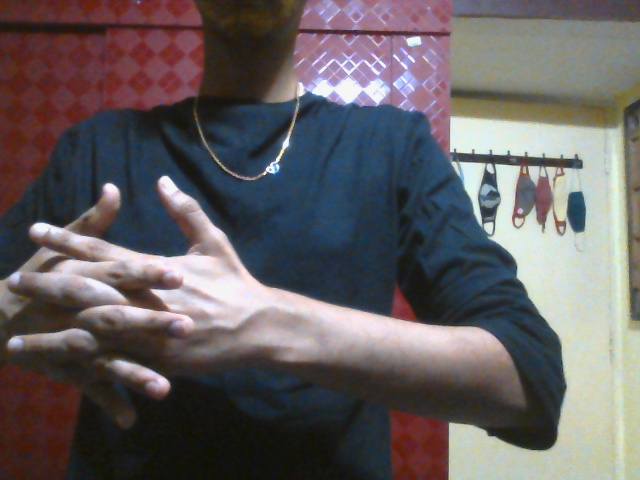W: (5, 174, 244, 432)
